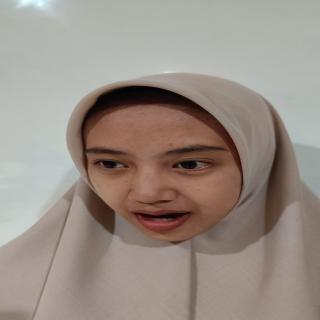Takut: (73, 84, 262, 249)
